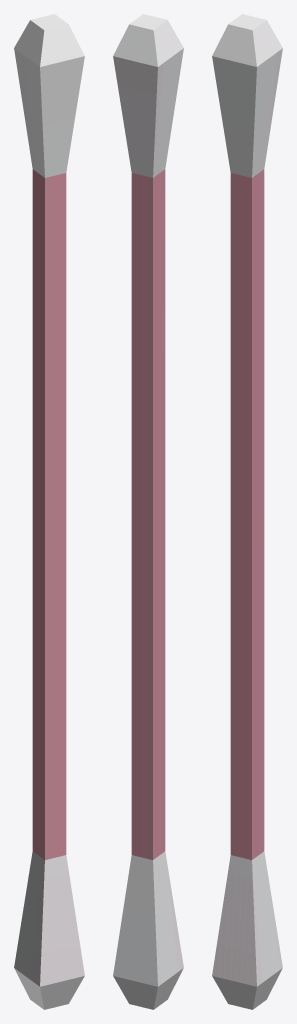
The picture shows the model from 3 angles, left to right: view 1: azimuth 30°, elevation 25°; view 2: azimuth 150°, elevation 25°; view 3: azimuth 330°, elevation 25°; orthographic projection.
Parts seen in each view (by area): view 1: Cube.022_Cube.039; view 2: Cube.022_Cube.039; view 3: Cube.022_Cube.039.
Part boxes in pixels (<box>): Cube.022_Cube.039: <box>14,14,84,1009</box>; Cube.022_Cube.039: <box>113,14,183,1009</box>; Cube.022_Cube.039: <box>212,14,282,1009</box>.
Bounding box in the file's own units: 0.0399 × 0.8298 × 0.0399.
1 material, 1 textured.
